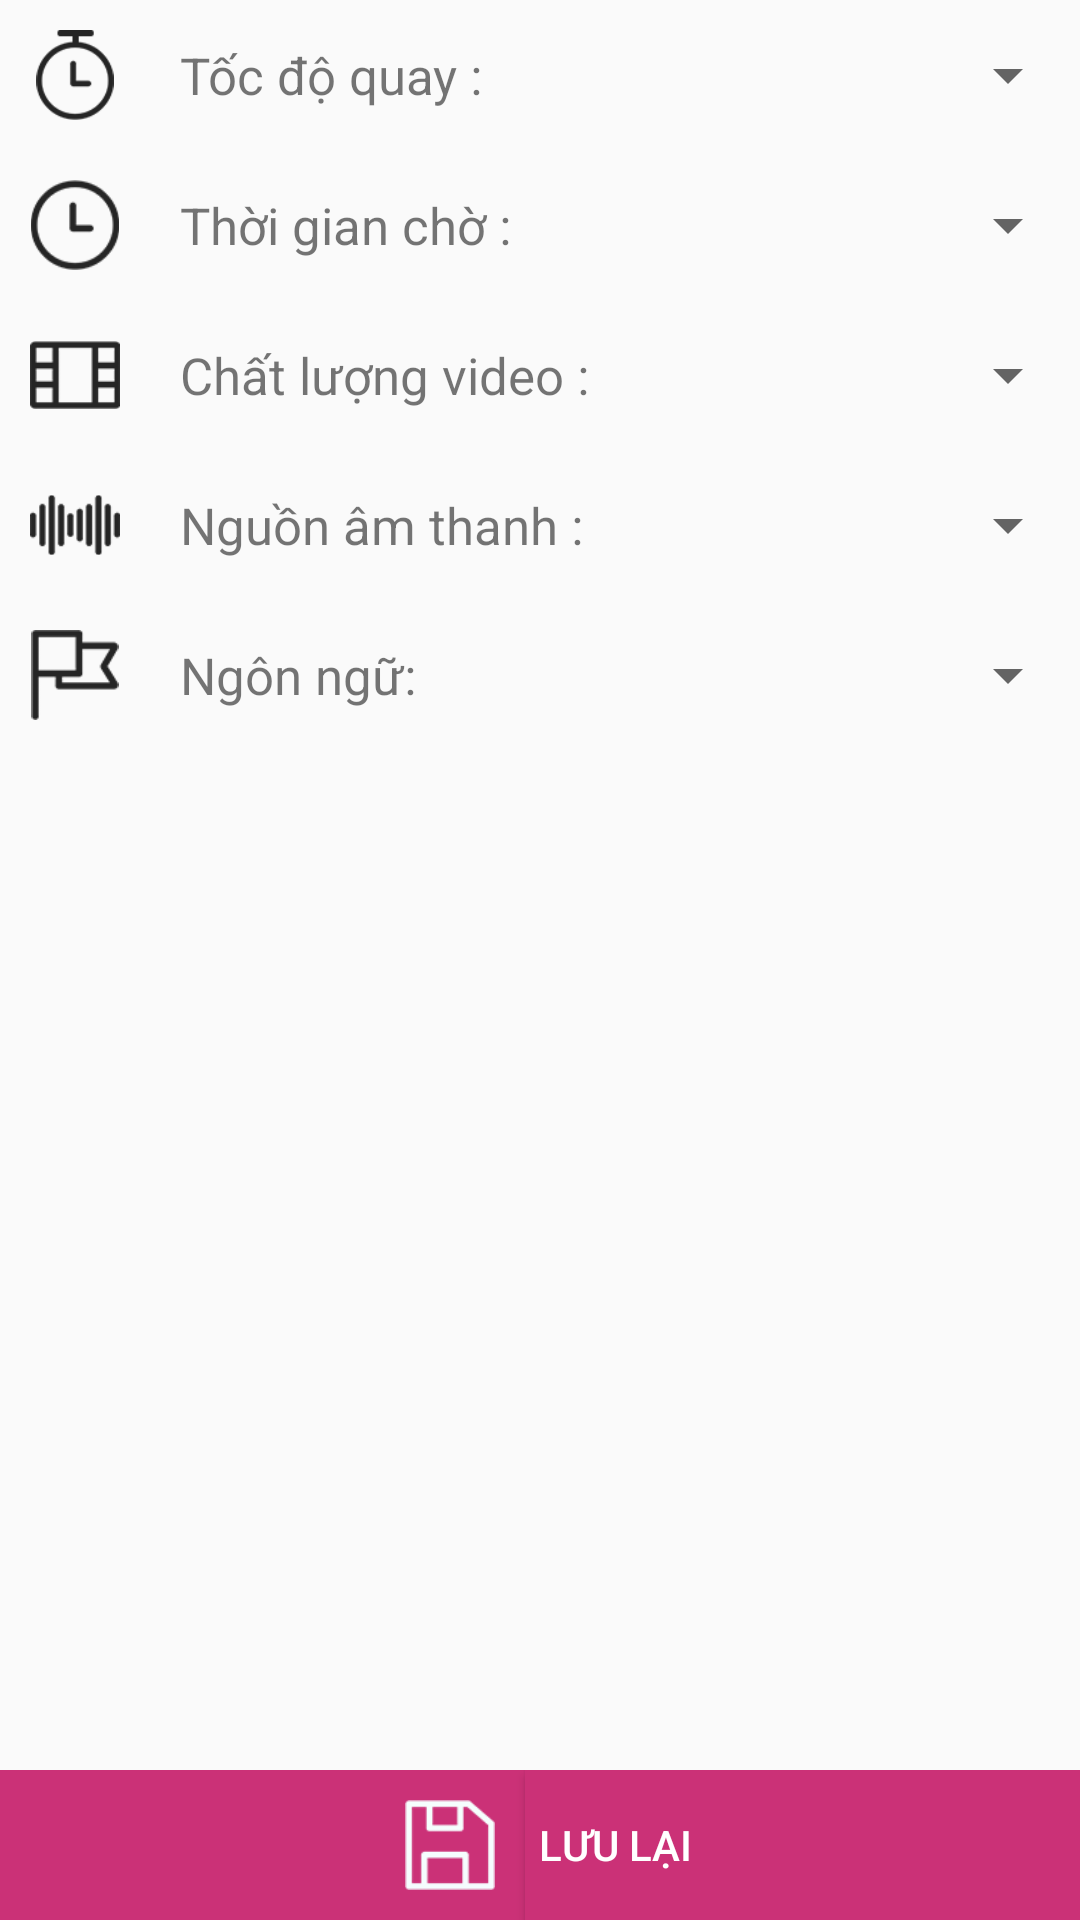

Where icons sit on this 1080x1920 app screen, as (x1, y1, x2, y2):
language: (31, 630, 119, 720)
save: (405, 1800, 495, 1890)
sound: (30, 495, 120, 555)
speed: (36, 30, 114, 120)
time: (31, 180, 119, 270)
video quality: (30, 341, 120, 409)
